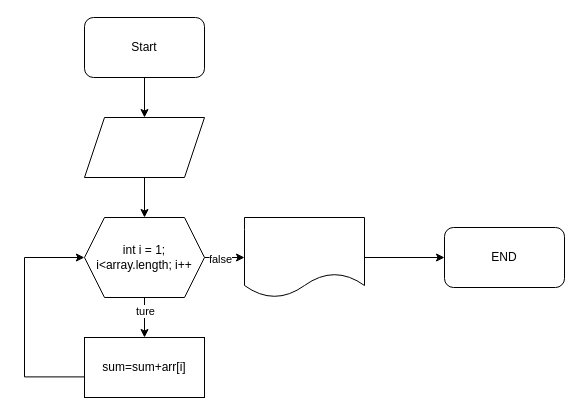
Some shapes in this 582 by 415 pixel diagram are drawn without their labels. Here are the shapes that lost their labels. From the top down, the centre of each, then its label:
(x=144, y=147): int numbers
(x=304, y=257): print sum
